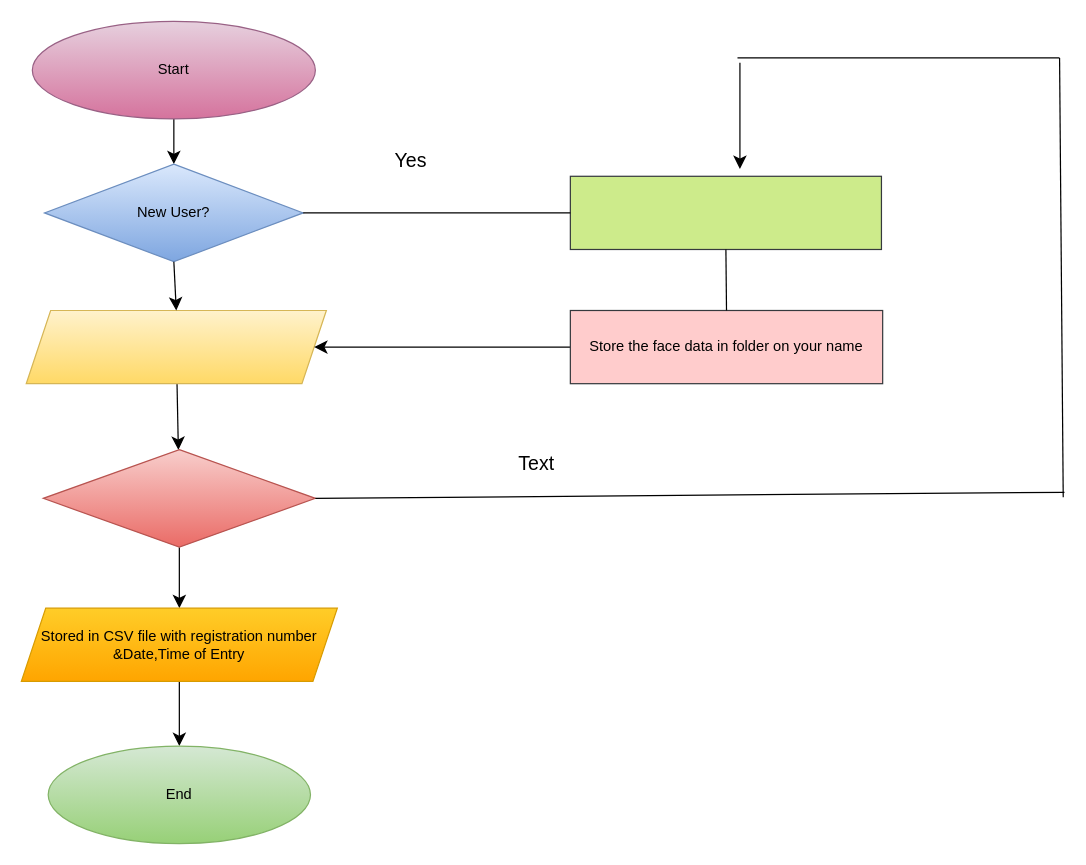
Image size: 1086x865. Some labels were removed from this diagram. The centre of each missing label's shape, as x and y in pixels:
"Face Recognized" goes at point (178, 497).
"Give your path" goes at point (725, 212).
"Recognize the face" goes at point (175, 346).
